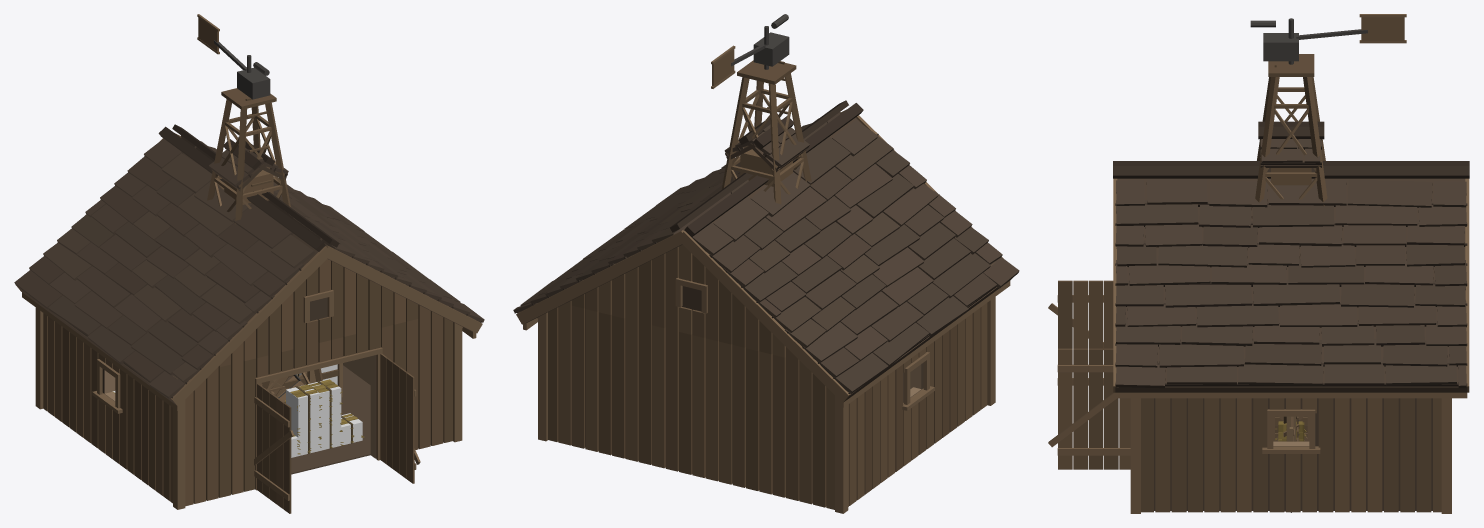
The model's file is kits.glb.
3 renders of one model, left to right at view 1: azimuth 30°, elevation 25°; view 2: azimuth 150°, elevation 25°; view 3: azimuth 270°, elevation 25°, orthographic. The views are drawn at different scales.
Visible parts, largest first — view 1: HayShed, Windmill, HayShedCol; view 2: HayShed, Windmill; view 3: HayShed, Windmill.
Boxes of the visible parts, x1,y1,x2,y2 form: HayShed: (14,124,484,513); Windmill: (197,14,322,403); HayShedCol: (112,364,362,457); HayShed: (513,100,1019,513); Windmill: (711,14,812,204); HayShed: (1048,121,1469,513); Windmill: (1250,14,1406,441).
Size of the model in its own units: 8.16 by 10.63 by 8.27.
